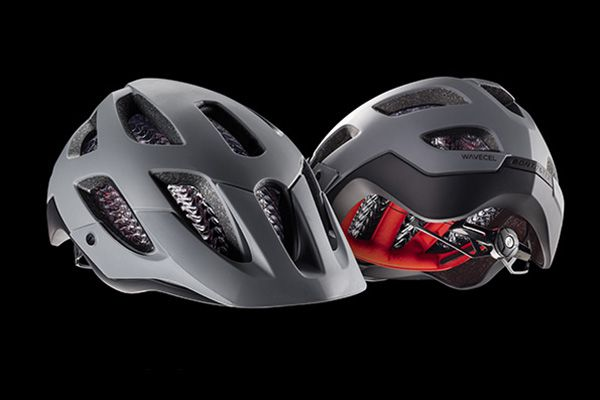with_helmet: (41, 75, 371, 311), (307, 73, 567, 293)
